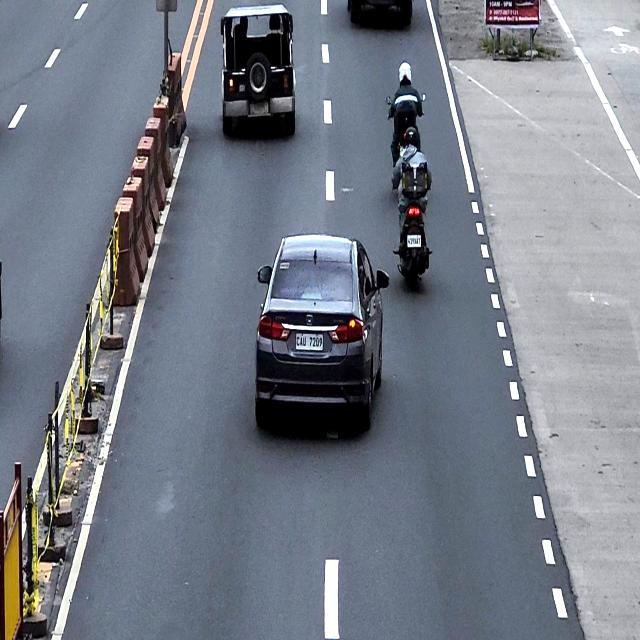Car: (252, 233, 392, 440), (218, 1, 299, 143)
License-Plate: (294, 332, 324, 351), (247, 98, 270, 116), (406, 233, 422, 249)
Motorcycle: (392, 169, 432, 291), (385, 93, 426, 184)
